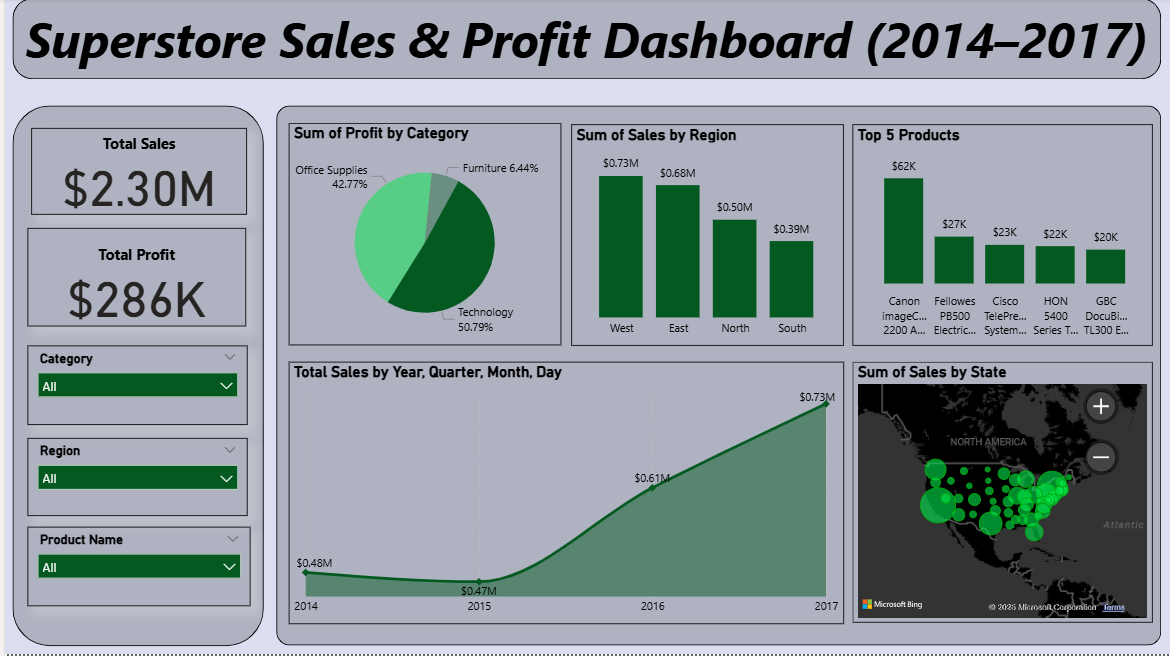

The dashboard page shown, as its layout file describes it:
{"tool":"powerbi","page":{"name":"Page 1","canvas":[1280,720],"ordinal":0},"visuals":[{"type":"shape","box":[297.2,117.4,971.5,592.8],"z":0,"group":"g3"},{"type":"shape","box":[8.1,117.7,275.8,593.5],"z":0,"group":"g2"},{"type":"group","id":"g1","title":"Group 2","box":[297.2,117.4,971,593.5],"z":500},{"type":"shape","box":[8.2,0,1261.1,89.2],"z":1000},{"type":"pieChart","fields":{"Category":["Superstore sales.Category"],"Y":["Sum(Superstore sales.Profit)"]},"box":[311.2,136.9,299.1,244.3],"z":1000,"group":"g3"},{"type":"cardVisual","fields":{"Data":["Sum(Superstore sales.Sales)"]},"box":[29.1,141.9,237.1,95.2],"z":1000,"group":"g2"},{"type":"group","id":"g2","title":"Group 1","box":[8.1,117.7,275.8,593.5],"z":2000},{"type":"columnChart","fields":{"Y":["Sum(Superstore sales.Sales)"],"Category":["Superstore sales.Region"]},"box":[620.8,138.2,299.1,243.5],"z":2000,"group":"g3"},{"type":"cardVisual","fields":{"Data":["Sum(Superstore sales.Profit)"]},"box":[24.2,251.6,240.3,108.1],"z":2000,"group":"g2"},{"type":"group","id":"g3","title":"Group 3","box":[297.2,117.4,971,593.5],"z":2001,"group":"g1"},{"type":"slicer","fields":{"Values":["Superstore sales.Category"]},"box":[24.2,380.6,241.9,87.1],"z":3000,"group":"g2"},{"type":"lineChart","title":"Total Sales by Year, Quarter, Month, Day","fields":{"Category":["Superstore sales.Order Date.Variation.Date Hierarchy.Year","Superstore sales.Order Date.Variation.Date Hierarchy.Quarter","Superstore sales.Order Date.Variation.Date Hierarchy.Month","Superstore sales.Order Date.Variation.Date Hierarchy.Day"],"Y":["Sum(Superstore sales.Sales)"]},"box":[311.2,399,609.3,288.2],"z":3000,"group":"g3"},{"type":"map","fields":{"Category":["Superstore sales.State"],"Size":["Sum(Superstore sales.Sales)"]},"box":[930.1,399,329.3,286.8],"z":4000,"group":"g3"},{"type":"slicer","fields":{"Values":["Superstore sales.Region"]},"box":[24.2,482.2,241.9,85.5],"z":4000,"group":"g2"},{"type":"columnChart","title":"Top 5 Products","fields":{"Category":["Superstore sales.Product Name"],"Y":["Sum(Superstore sales.Sales)"]},"box":[930.2,138.3,329.4,243.2],"z":5000,"group":"g3"},{"type":"slicer","fields":{"Values":["Superstore sales.Product Name"]},"box":[24.2,580.6,245.2,87.1],"z":5000,"group":"g2"}]}

Visuals, with their boxes in screenshot pixels (x1, y1, x2, y2), scaled from the page's 1280x720 canvas onto the 1170x656 screenshot:
shape: (x1=272, y1=107, x2=1160, y2=647)
shape: (x1=7, y1=107, x2=260, y2=648)
"Group 2" group: (x1=272, y1=107, x2=1159, y2=648)
shape: (x1=7, y1=0, x2=1160, y2=81)
pieChart - Superstore sales.Category x Sum(Superstore sales.Profit): (x1=284, y1=125, x2=558, y2=347)
cardVisual - Sum(Superstore sales.Sales): (x1=27, y1=129, x2=243, y2=216)
"Group 1" group: (x1=7, y1=107, x2=260, y2=648)
columnChart - Sum(Superstore sales.Sales) x Superstore sales.Region: (x1=567, y1=126, x2=841, y2=348)
cardVisual - Sum(Superstore sales.Profit): (x1=22, y1=229, x2=242, y2=328)
"Group 3" group: (x1=272, y1=107, x2=1159, y2=648)
slicer - Superstore sales.Category: (x1=22, y1=347, x2=243, y2=426)
"Total Sales by Year, Quarter, Month, Day" lineChart: (x1=284, y1=364, x2=841, y2=626)
map - Superstore sales.State x Sum(Superstore sales.Sales): (x1=850, y1=364, x2=1151, y2=625)
slicer - Superstore sales.Region: (x1=22, y1=439, x2=243, y2=517)
"Top 5 Products" columnChart: (x1=850, y1=126, x2=1151, y2=348)
slicer - Superstore sales.Product Name: (x1=22, y1=529, x2=246, y2=608)
